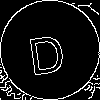D: (25, 25, 67, 76)
